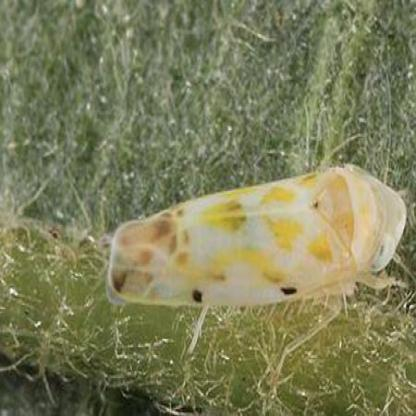green-leafhopper: (105, 160, 406, 317)
